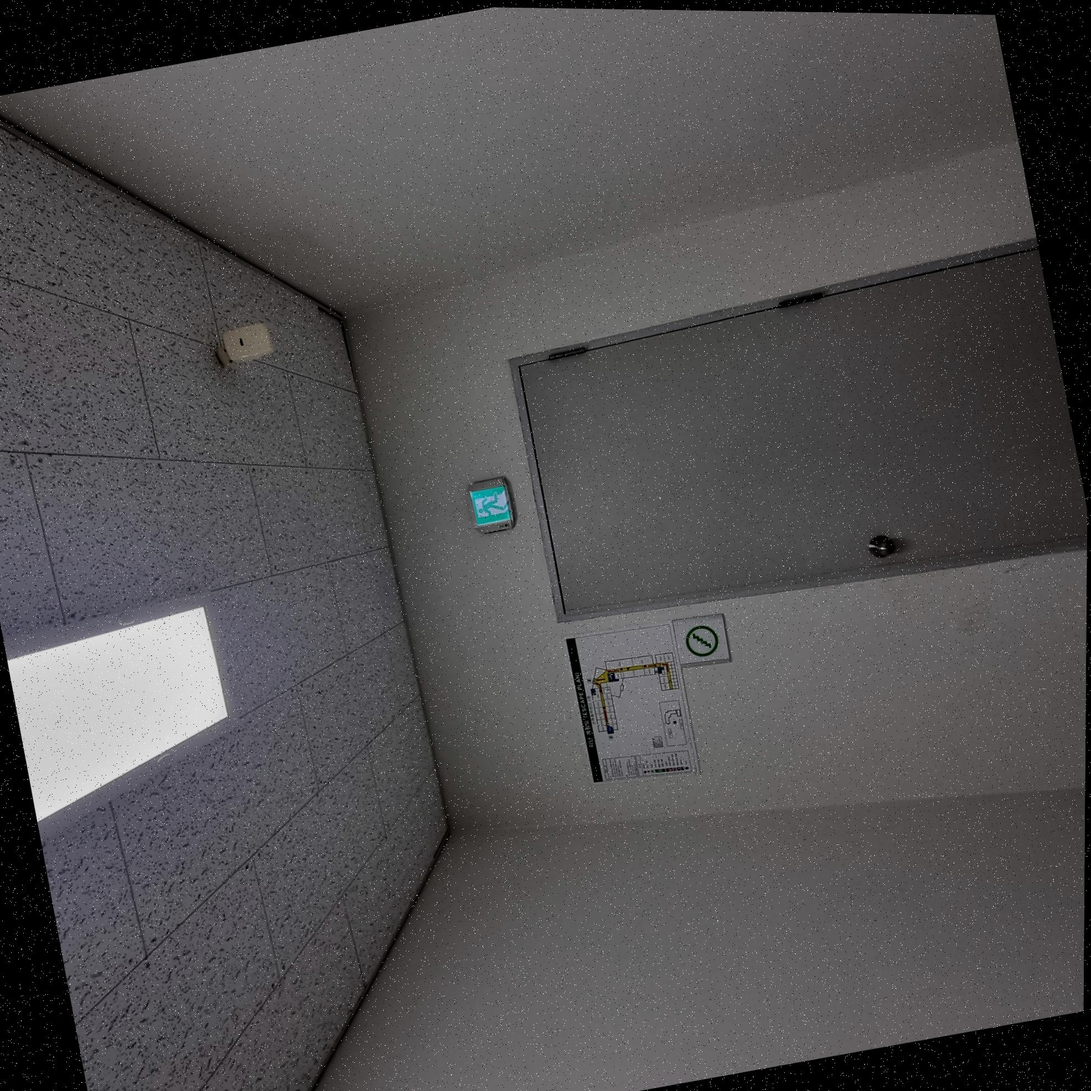emergency_exit: (670, 612, 732, 666), (467, 476, 516, 533)
